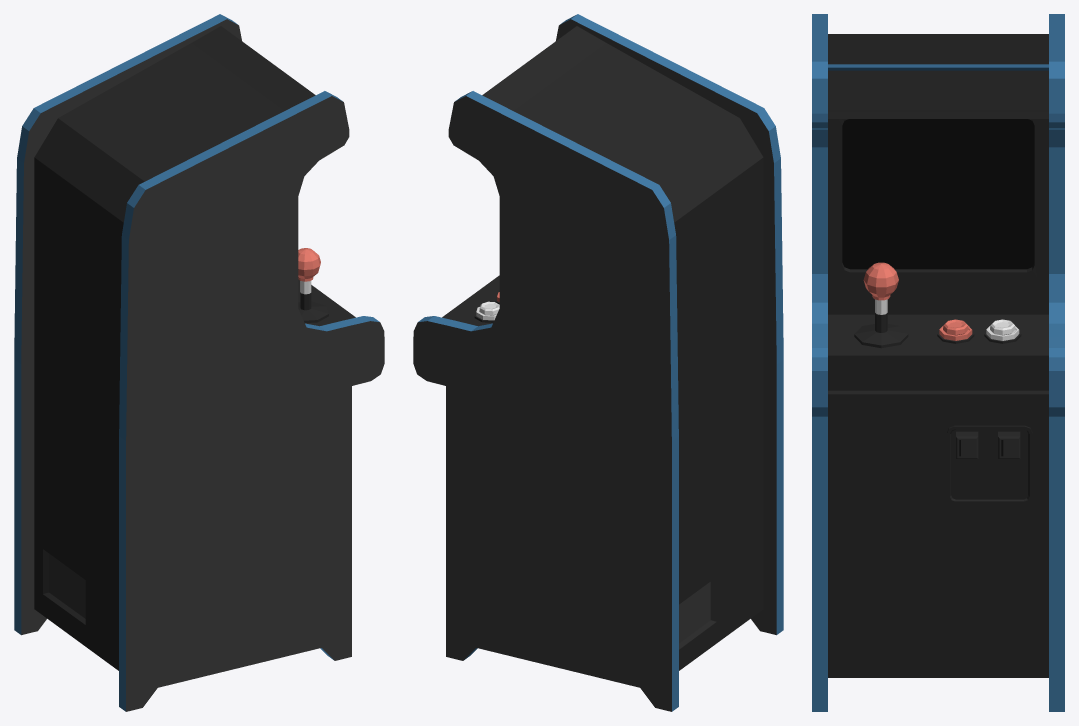
The model's file is Arcade Machine.glb.
3 views of the same model, side by side, from view 1: azimuth 30°, elevation 25°; view 2: azimuth 150°, elevation 25°; view 3: azimuth 270°, elevation 25° (orthographic). The views are drawn at different scales.
Parts seen in each view (by area): view 1: ArcadeMachine_Cube.002; view 2: ArcadeMachine_Cube.002; view 3: ArcadeMachine_Cube.002, GameScreen_Plane.
Boxes of the visible parts, x1,y1,x2,y2 form: ArcadeMachine_Cube.002: (14,14,384,711); ArcadeMachine_Cube.002: (413,14,783,711); ArcadeMachine_Cube.002: (812,14,1064,711); GameScreen_Plane: (842,119,1034,269).
Size of the model in its own units: 1.24 by 2.59 by 0.927.
